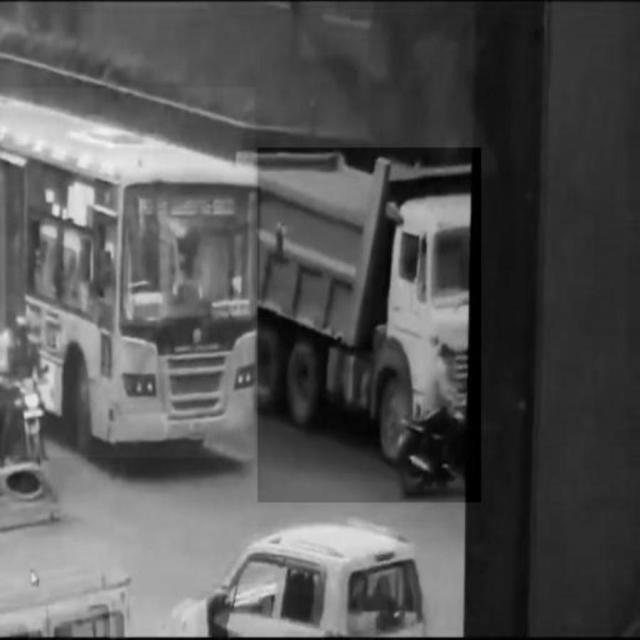accident: (257, 148, 481, 503)
vehicle: (2, 88, 255, 458)
